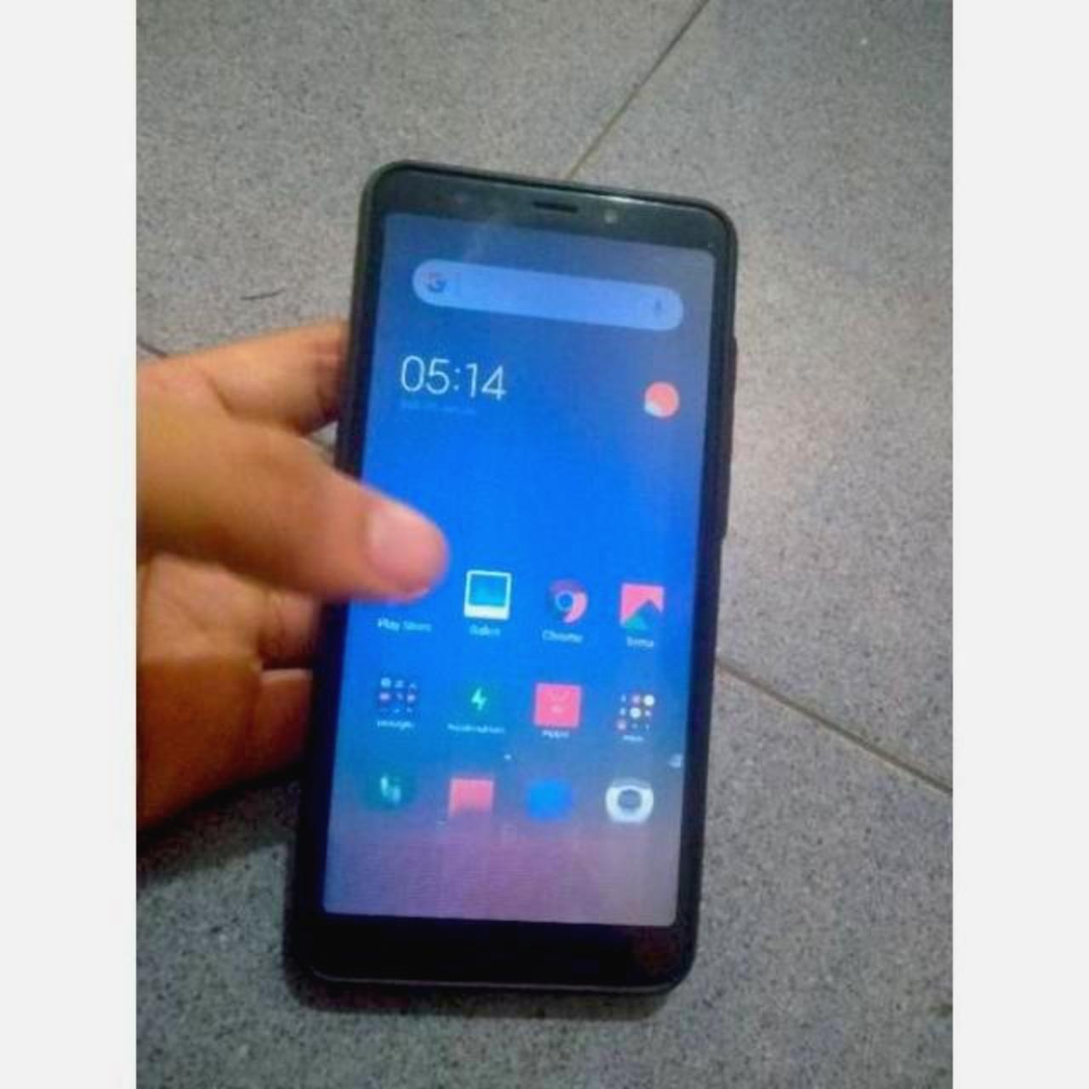phone: (343, 155, 709, 1055)
